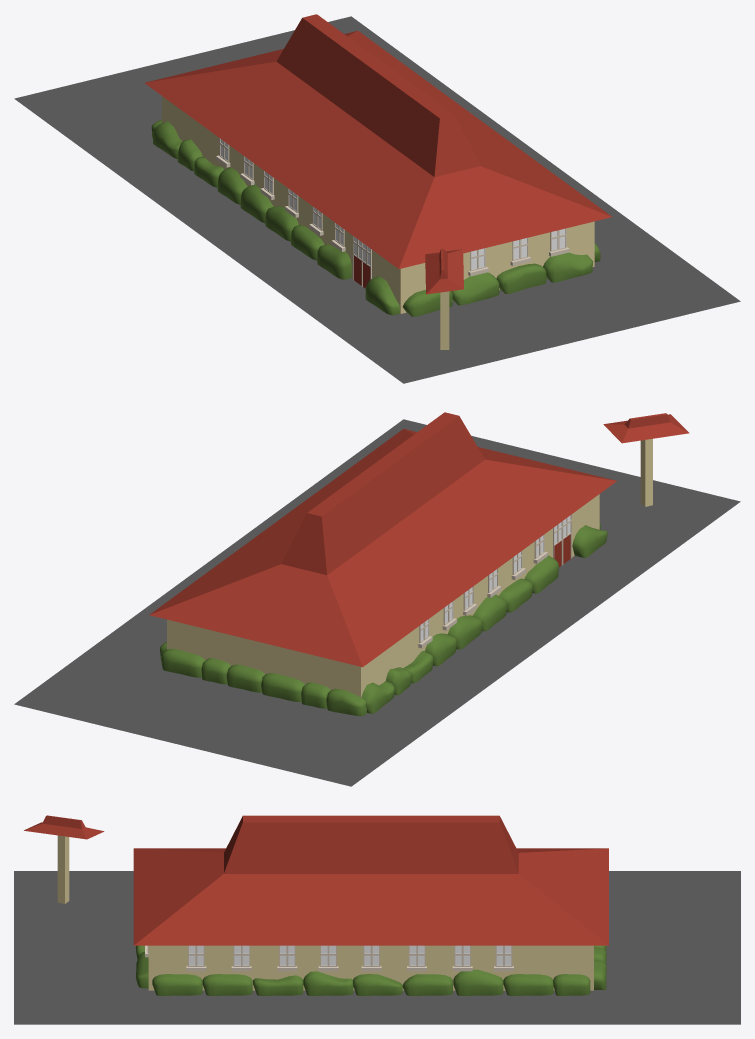
File: 2x1_PizzaHut.col.glb
3 views of the same model, one above another, from view 1: azimuth 30°, elevation 25°; view 2: azimuth 150°, elevation 25°; view 3: azimuth 270°, elevation 25° (orthographic). The views are drawn at different scales.
Visible parts, largest first — view 1: 2x1_PizzaHut.col; view 2: 2x1_PizzaHut.col; view 3: 2x1_PizzaHut.col.
Boxes of the visible parts, <box> form: 2x1_PizzaHut.col: <box>14,14,740,383</box>; 2x1_PizzaHut.col: <box>14,412,740,786</box>; 2x1_PizzaHut.col: <box>14,815,740,1024</box>.
Size of the model in its own units: 20 by 7.8 by 40.
